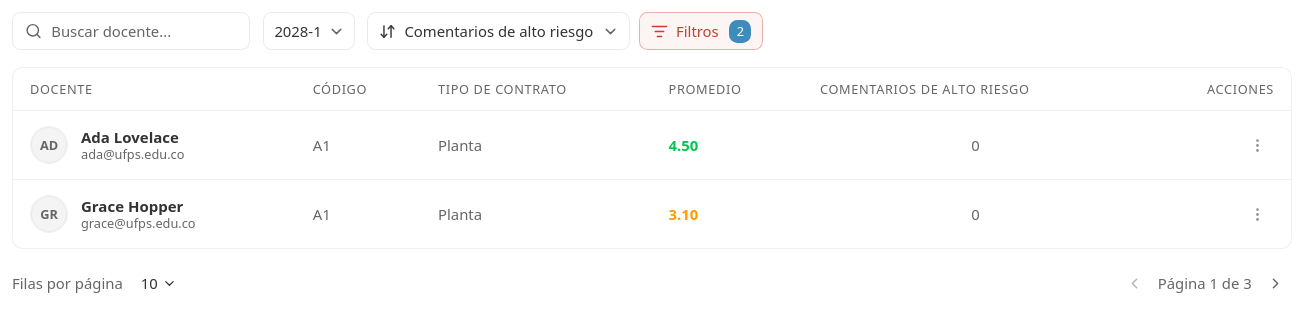
Test: TeachersList › no vuelve a la primera página cuando el periodo de la URL termina de resolverse
This screenshot has width=1304, height=320.
Expected: the text "Ada Lovelace" is shown, [81,128,184,147]
Click the button named "Página siguiente": (1275, 283) [1258,266,1292,300]
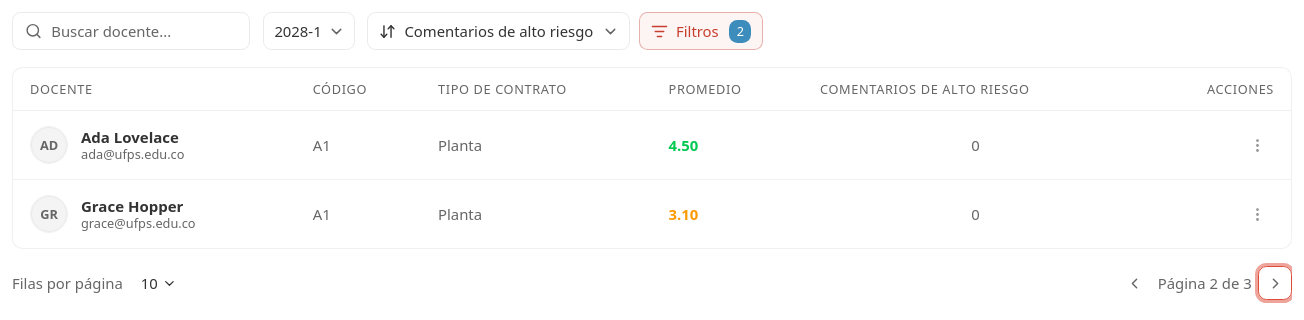
Result: the text "Página 2 de 3" is shown at [1158,273,1252,294]
